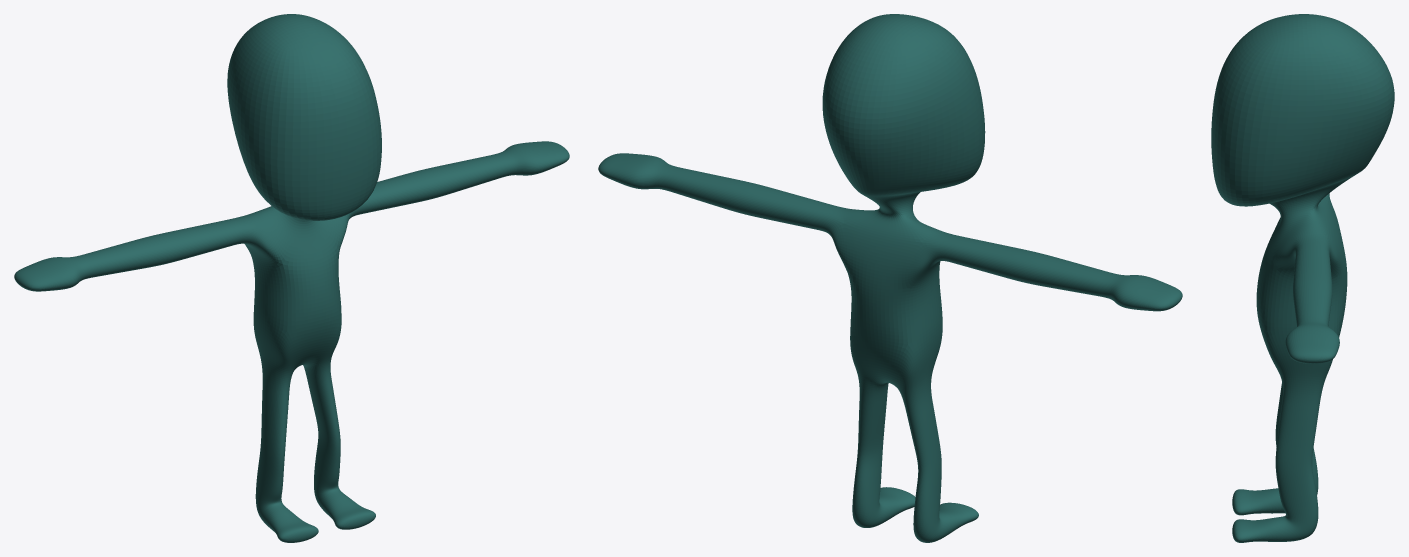
The model's file is greenzombie.fbx.
The picture shows the model from 3 angles, left to right: view 1: azimuth 30°, elevation 25°; view 2: azimuth 150°, elevation 25°; view 3: azimuth 270°, elevation 25°; orthographic projection. The views are drawn at different scales.
Visible parts, largest first — view 1: Cube; view 2: Cube; view 3: Cube.
Part boxes in pixels (x1,y1,x2,y2): Cube: (14, 14, 569, 542); Cube: (598, 14, 1182, 542); Cube: (1211, 14, 1394, 542).
Size of the model in its own units: 212 by 182 by 59.83.
